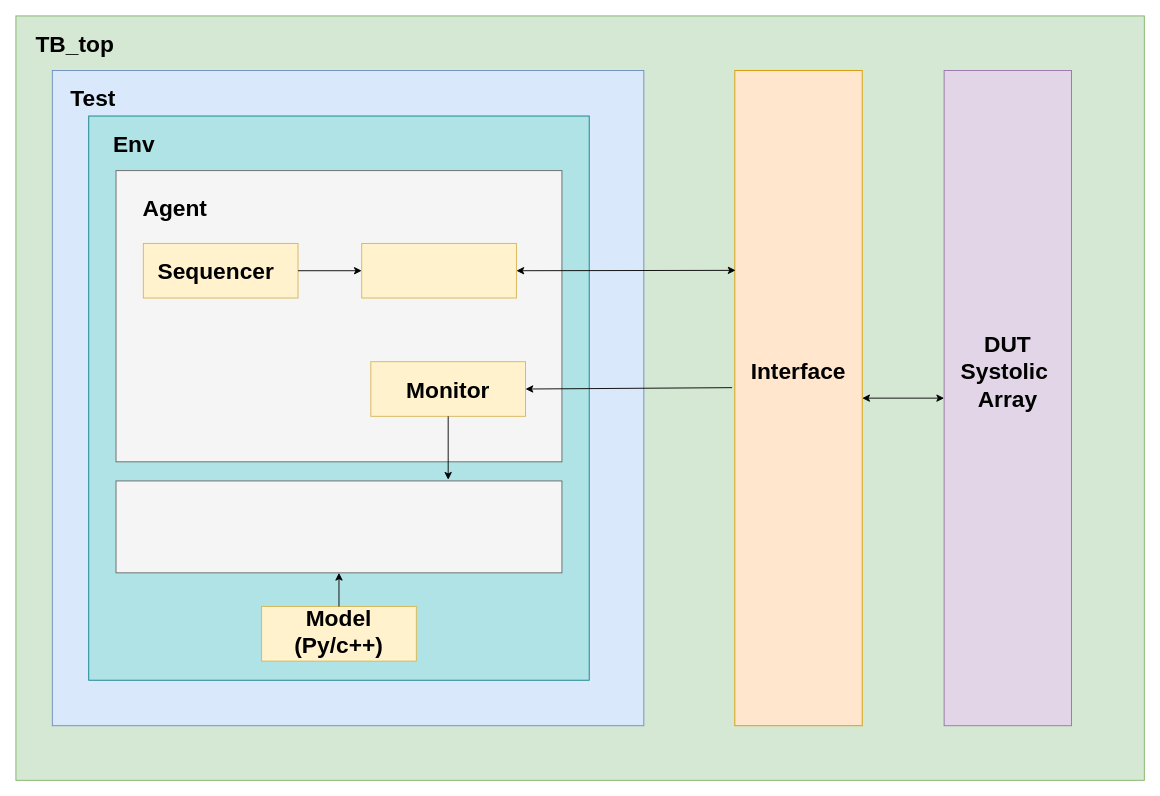
Image size: 1160x796. Some labels were removed from this diagram. Each missing label, with the centre of its shape:
Driver: the point at 438,270
Scoreboard: the point at 338,526
